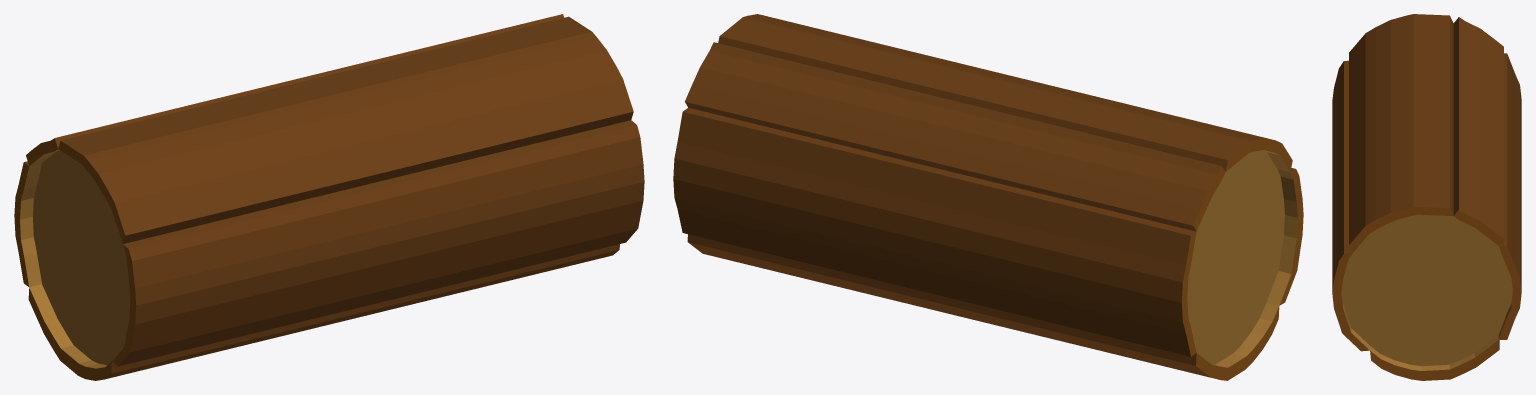
File: wood.gltf
3 views of the same model, side by side, from view 1: azimuth 30°, elevation 25°; view 2: azimuth 150°, elevation 25°; view 3: azimuth 270°, elevation 25° (orthographic). The views are drawn at different scales.
Visible parts, largest first — view 1: Cylinder; view 2: Cylinder; view 3: Cylinder.
Part boxes in pixels (x1,y1,x2,y2): Cylinder: (14,14,644,380); Cylinder: (673,14,1303,380); Cylinder: (1332,14,1521,380).
Bounding box in the file's own units: 2.82 × 1.19 × 1.17.
